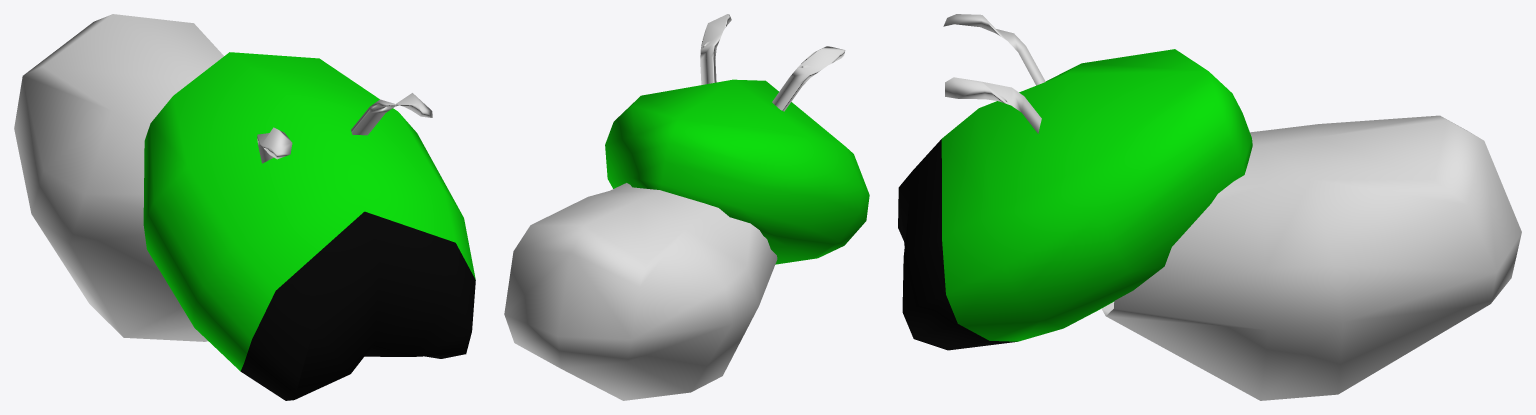
The model's file is Ant.fbx.
3 renders of one model, left to right at view 1: azimuth 30°, elevation 25°; view 2: azimuth 150°, elevation 25°; view 3: azimuth 270°, elevation 25°, orthographic. The views are drawn at different scales.
Parts seen in each view (by area): view 1: head, Ant, leftAntenna, rightAntenna; view 2: Ant, head, rightAntenna, leftAntenna; view 3: Ant, head, leftAntenna, rightAntenna.
Boxes of the visible parts, x1,y1,x2,y2 form: head: (143, 52, 475, 400); Ant: (14, 14, 223, 341); leftAntenna: (351, 93, 432, 135); rightAntenna: (257, 127, 292, 163); Ant: (504, 183, 777, 400); head: (605, 79, 869, 264); rightAntenna: (772, 46, 845, 111); leftAntenna: (700, 14, 731, 84); Ant: (1101, 115, 1521, 400); head: (898, 49, 1252, 350); leftAntenna: (945, 77, 1041, 133); rightAntenna: (943, 14, 1045, 85).
Bounding box in the file's own units: 2.68 × 3.11 × 5.18.
